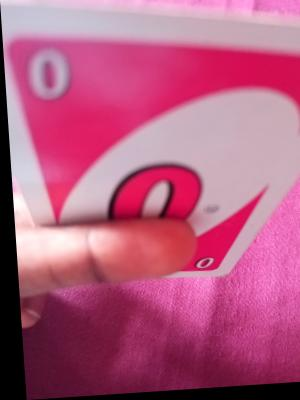num_0: (22, 27, 74, 113), (187, 251, 212, 275)
